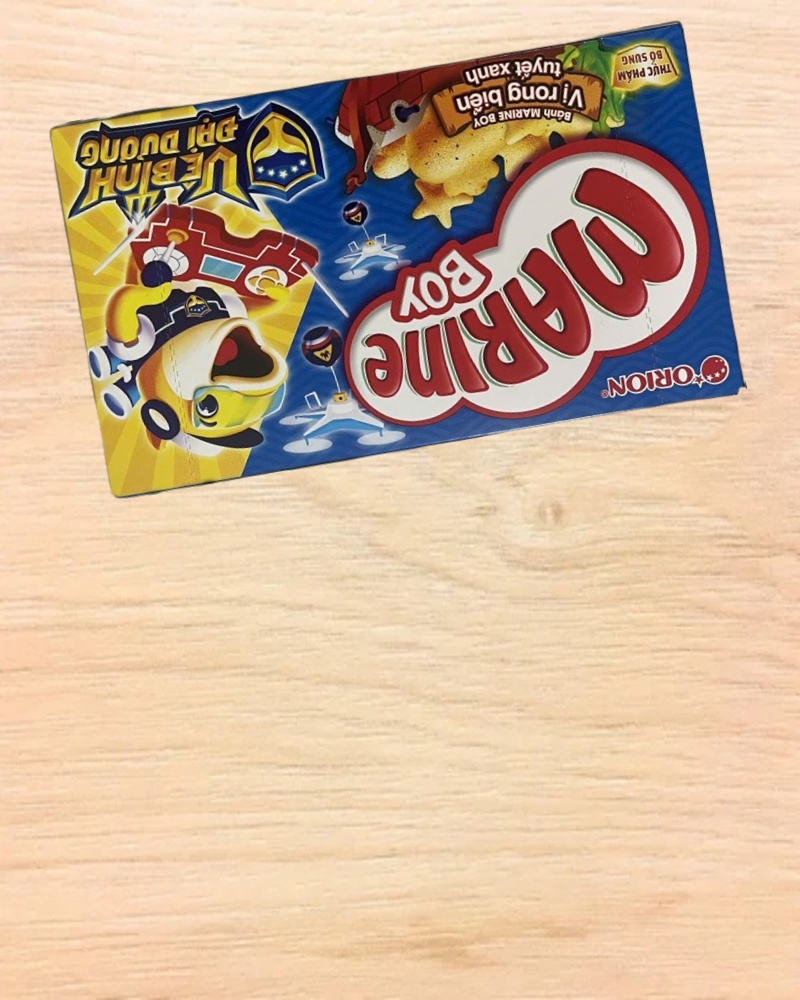Marine: (46, 16, 748, 505)
